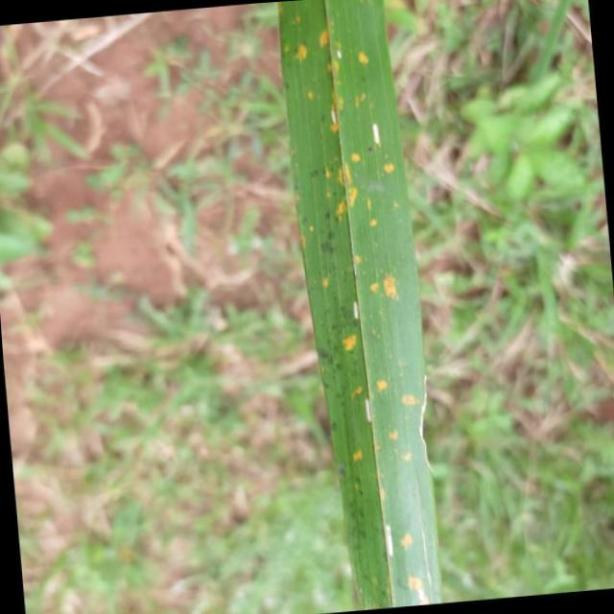Kalium: (280, 0, 443, 614)
